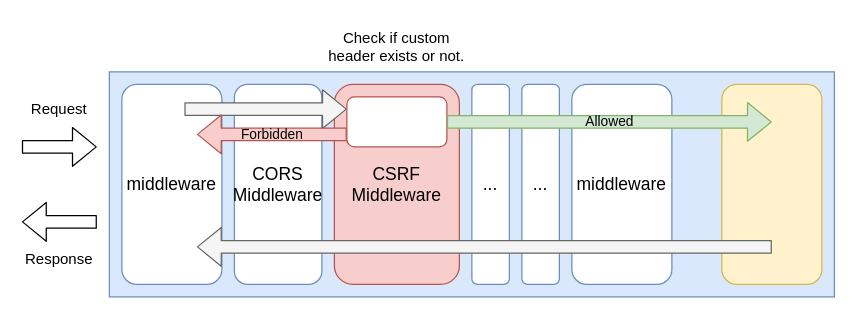
Image size: 856x319. Some labels were removed from this diagram. Here are the shapes that lost their labels. From the top down, the centre of each, then its label:
point 396,121: Check header.
point 771,183: Handler
